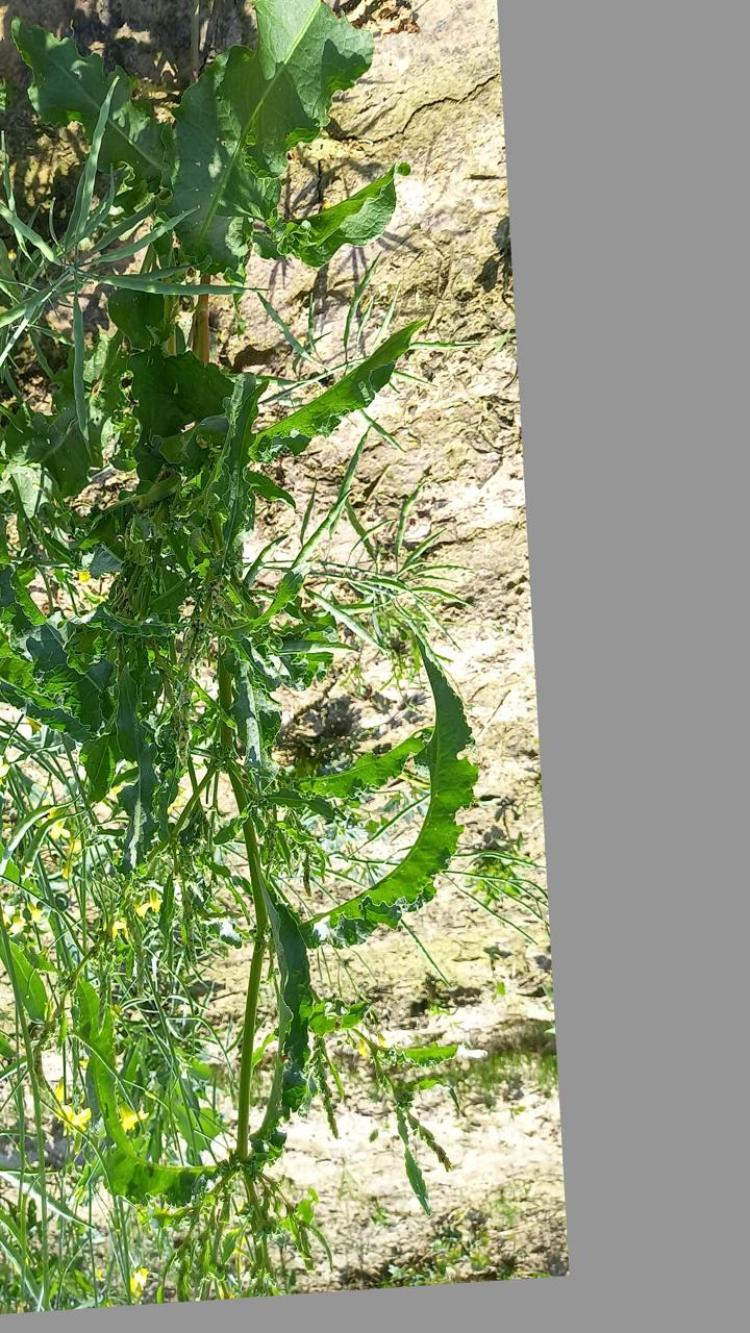zhavel: (11, 13, 488, 1200)
